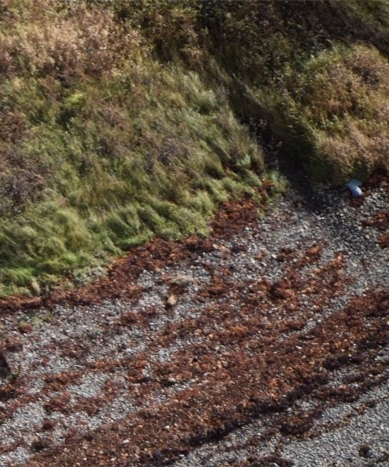white_in_green: (328, 159, 386, 212)
